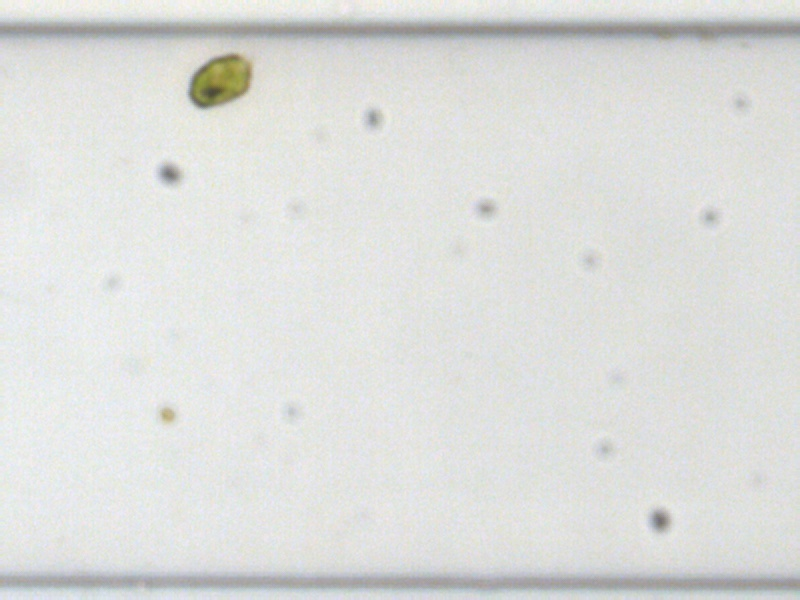Chlorella: (159, 403, 175, 420)
Platymonas: (185, 50, 253, 110)
